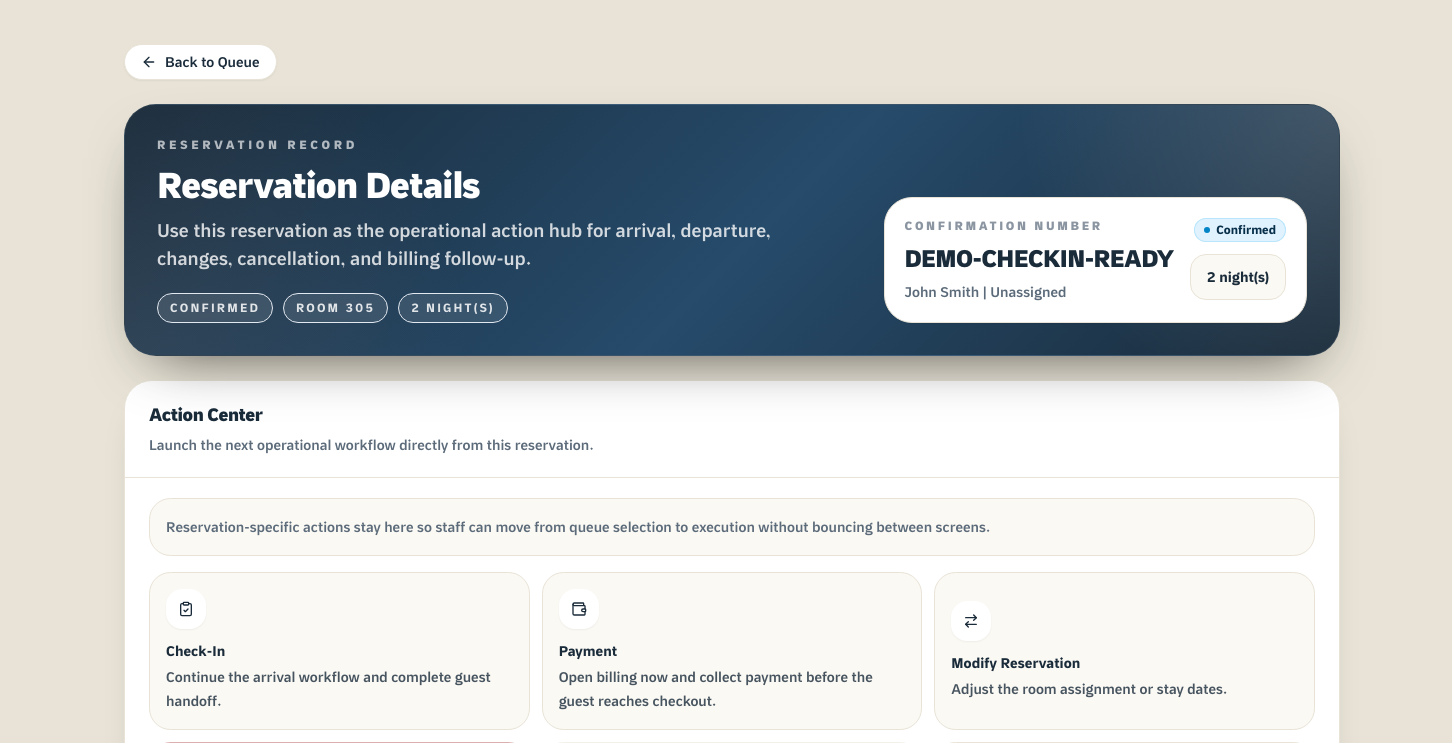
ReservationDetails › routes /reservations/modify through explicit confirmation filters
Expected: the heading "Reservation Details" is shown, [157, 162, 480, 207]
Click the button "Modify Reservation Adjust the room assignment or stay dates.".
click(971, 621)  # box [934, 572, 1315, 730]
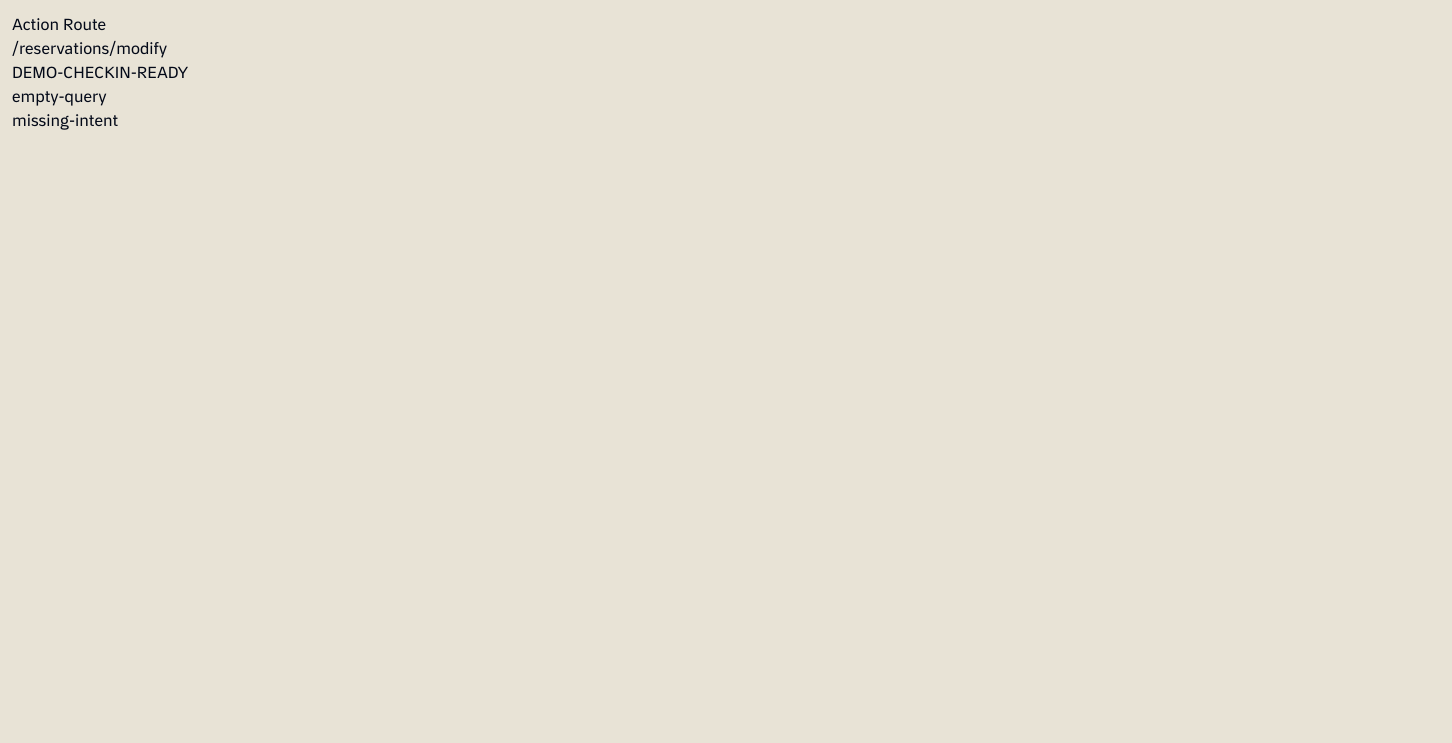
Result: the text "Action Route" is shown at [12, 14, 106, 34]
Result: the text "/reservations/modify" is shown at [12, 38, 167, 58]
Result: the text "empty-query" is shown at [12, 86, 106, 106]
